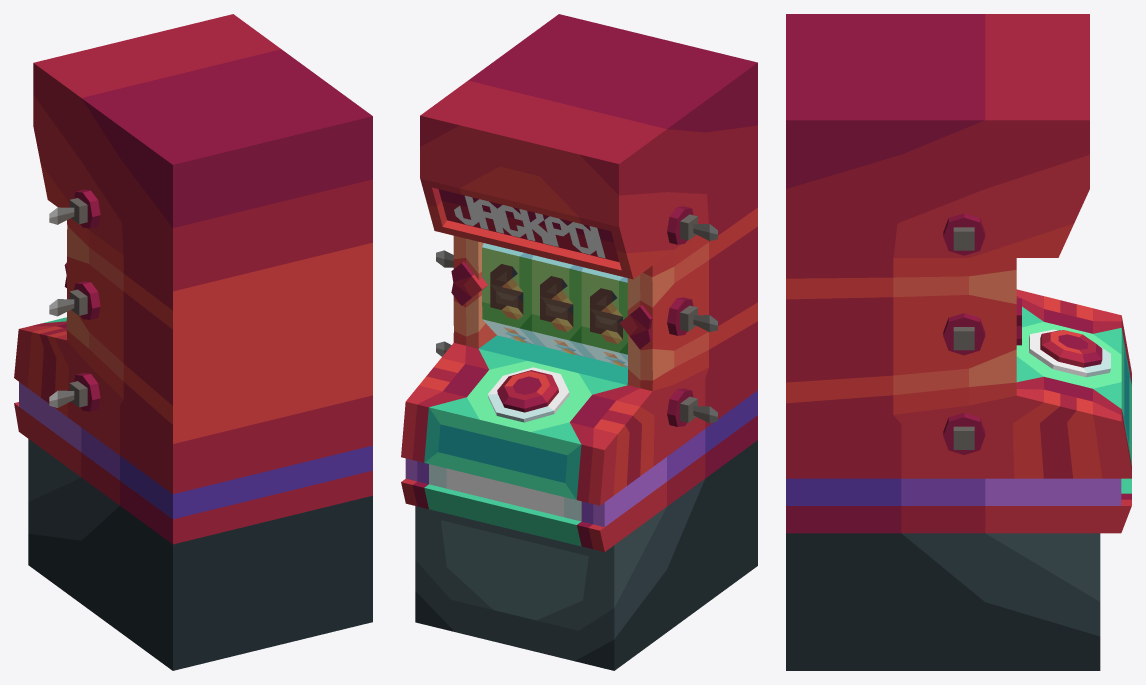
File: slotMachine.fbx
3 views of the same model, side by side, from view 1: azimuth 30°, elevation 25°; view 2: azimuth 150°, elevation 25°; view 3: azimuth 270°, elevation 25° (orthographic). The views are drawn at different scales.
Visible parts, largest first — view 1: machine, lamp, lamp3, lamp2; view 2: machine, wheelmodel_1, wheelmodel, wheelmodel_2, button, buttonframe, chest, chest_1, chest_2, arrow_1, lamp3, lamp (+4 smaller); view 3: machine, button, lamp4, lamp5, lamp6, buttonframe.
Part boxes in pixels (<box>): machine: <box>14,14,372,670</box>; lamp: <box>69,281,100,319</box>; lamp3: <box>69,373,100,411</box>; lamp2: <box>69,189,100,228</box>; machine: <box>401,14,757,670</box>; wheelmodel_1: <box>532,255,595,359</box>; wheelmodel: <box>482,243,546,347</box>; wheelmodel_2: <box>581,267,627,365</box>; button: <box>497,370,558,412</box>; buttonframe: <box>487,367,569,422</box>; chest: <box>490,264,523,319</box>; chest_1: <box>540,276,573,331</box>; chest_2: <box>590,288,622,343</box>; arrow_1: <box>451,261,487,305</box>; lamp3: <box>667,388,697,426</box>; lamp: <box>667,297,697,335</box>; machine: <box>786,14,1131,670</box>; button: <box>1040,330,1102,367</box>; lamp4: <box>943,313,985,355</box>; lamp5: <box>943,412,985,454</box>; lamp6: <box>943,213,985,255</box>; buttonframe: <box>1029,329,1110,377</box>.
Bounding box in the file's own units: 222 × 362 × 206.
